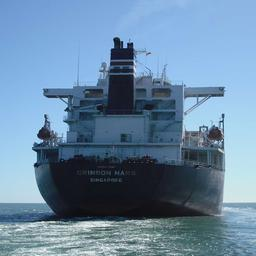Ship: (31, 34, 232, 220)
